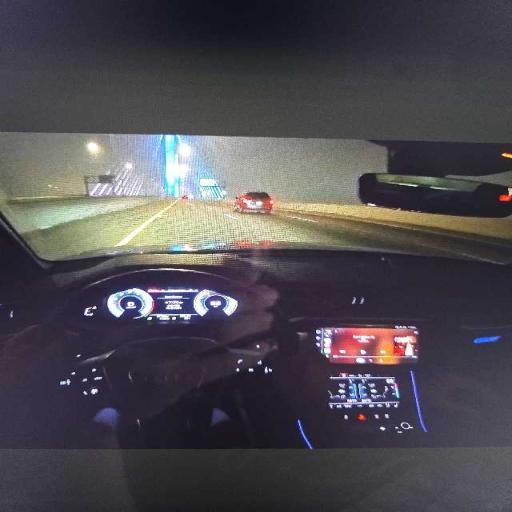car: (234, 192, 274, 213)
lane: (25, 199, 508, 262)
